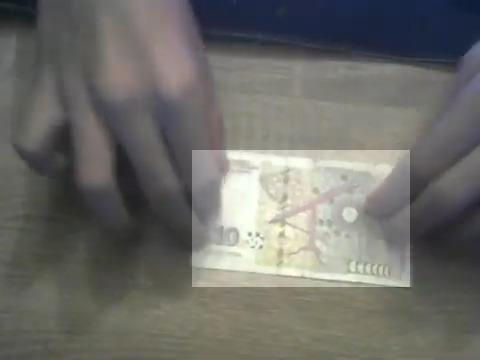10leva: (192, 150, 410, 287)
